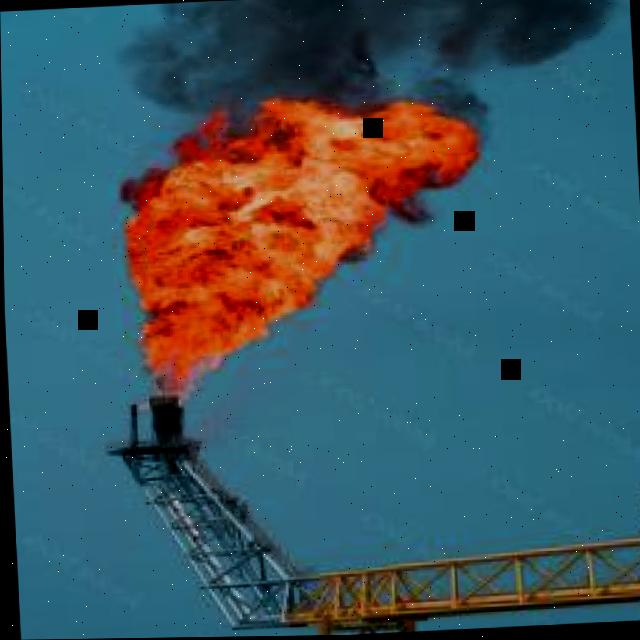fire: (120, 95, 483, 391)
smoke: (110, 0, 627, 143)
